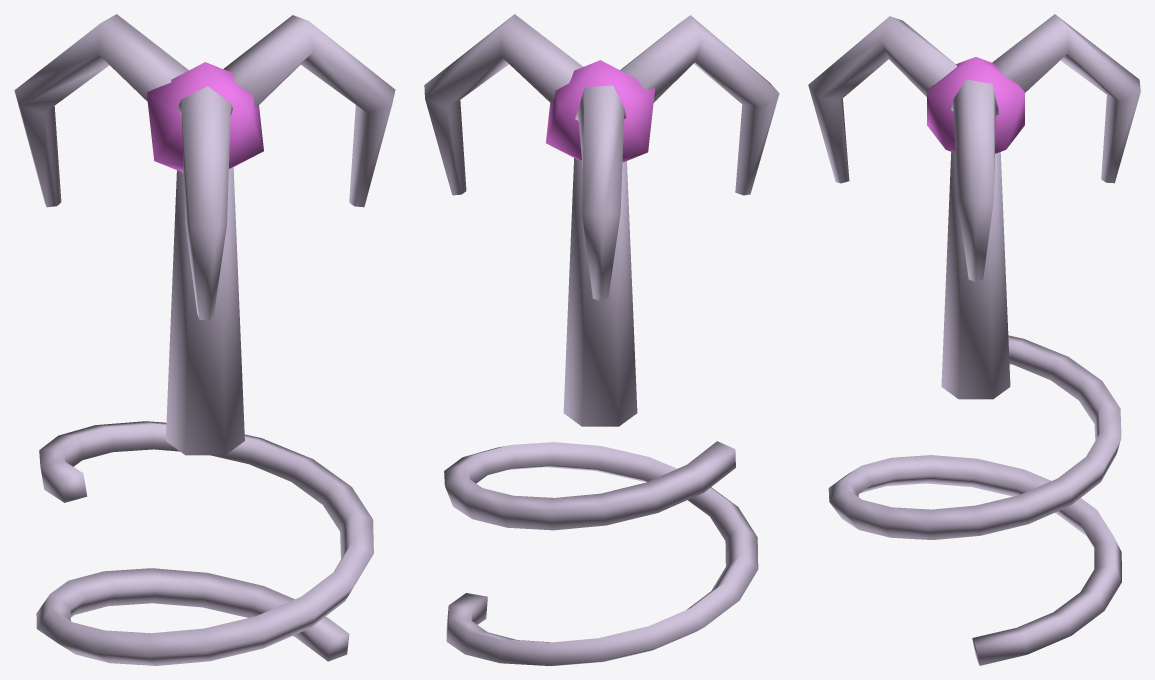
The model's file is illuminant_hook.glb.
The picture shows the model from 3 angles, left to right: view 1: azimuth 30°, elevation 25°; view 2: azimuth 150°, elevation 25°; view 3: azimuth 270°, elevation 25°; orthographic projection. The views are drawn at different scales.
Visible parts, largest first — view 1: illuminant_hook_v0; view 2: illuminant_hook_v0; view 3: illuminant_hook_v0.
Part boxes in pixels (x1,y1,x2,y2): illuminant_hook_v0: [14, 14, 395, 665]; illuminant_hook_v0: [424, 14, 779, 665]; illuminant_hook_v0: [808, 14, 1140, 665].
Size of the model in its own units: 0.1774 by 0.3275 by 0.1736.
